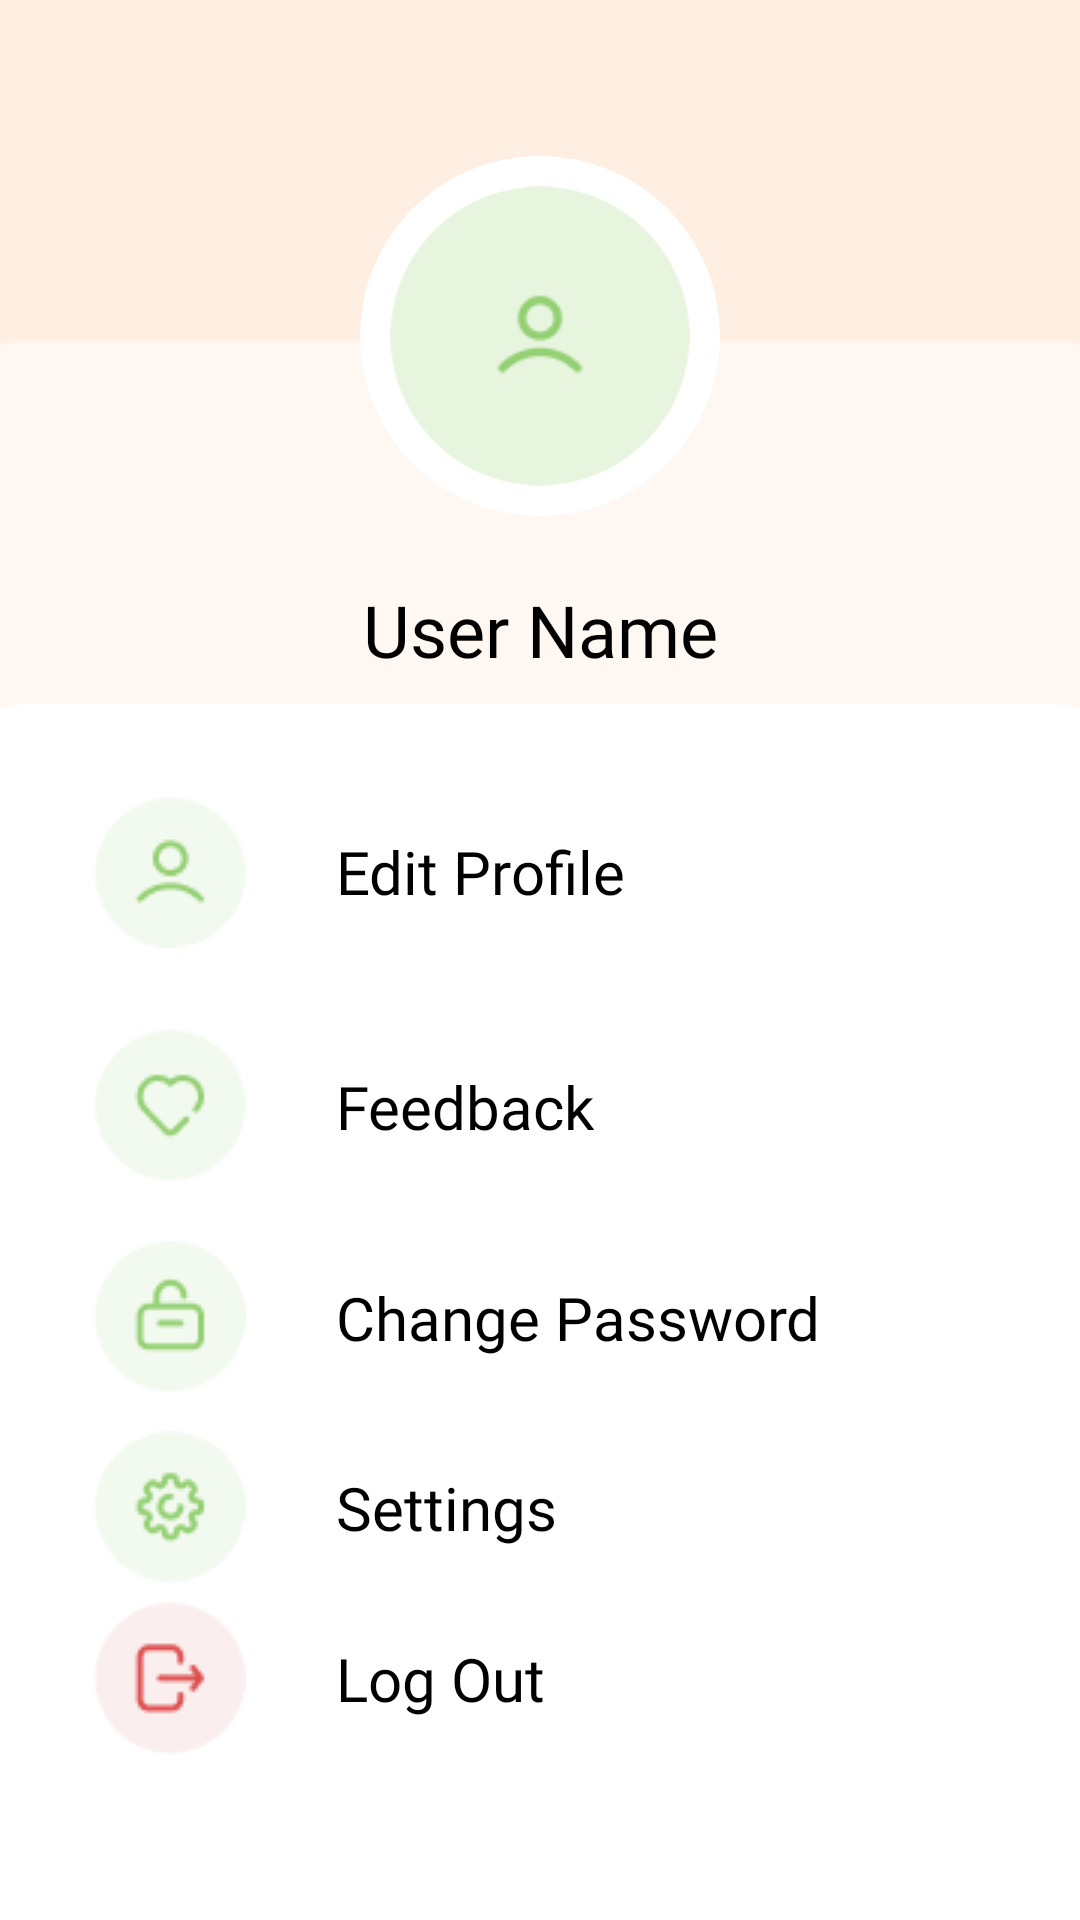

Icons on this 1080px x 1920px Android screen, each with the point to tap as (x,y):
profile: (540,336)
